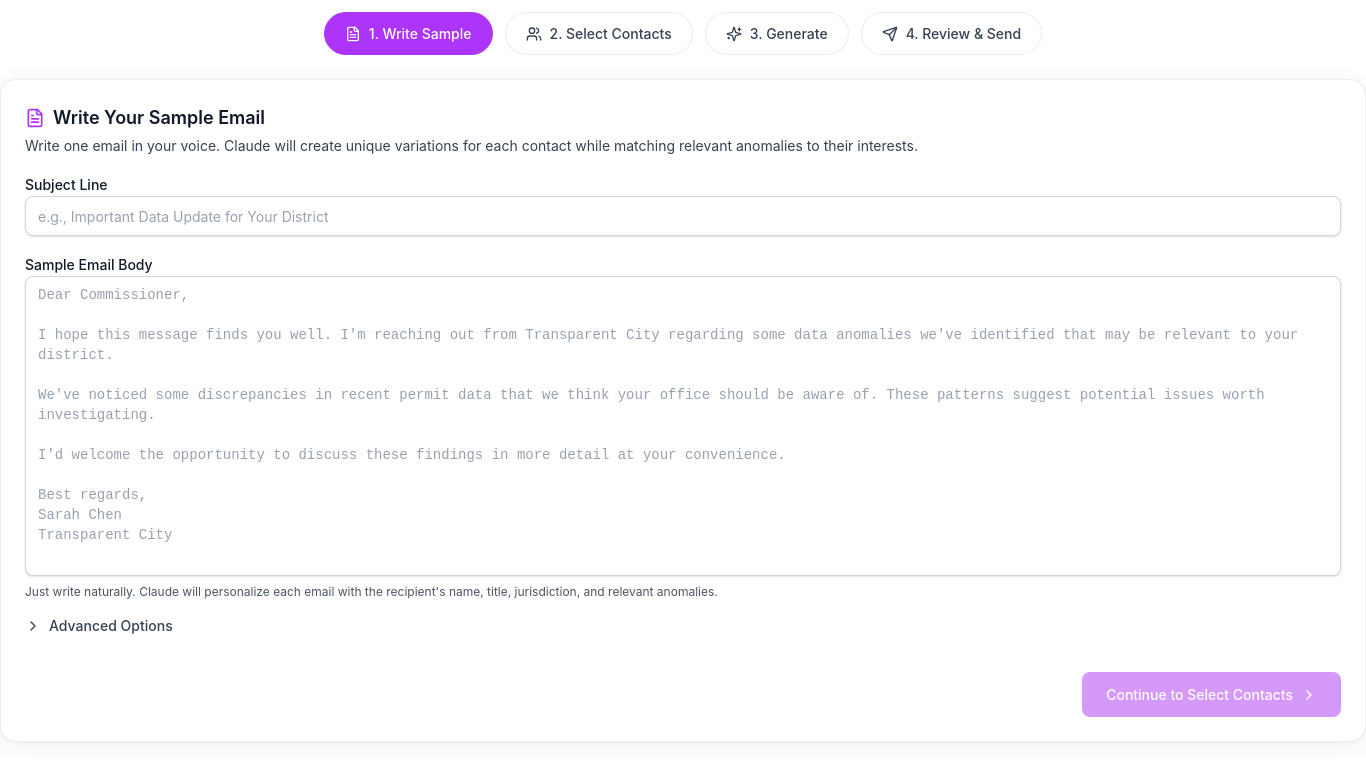
AIEmailComposer › shows contacts on the select step
The image size is (1366, 780).
Type "Hi there, here is some data we found." into the text box with placeholder "Dear Commissioner" at (683, 426), box top-left (25, 276), bottom-right (1341, 576)
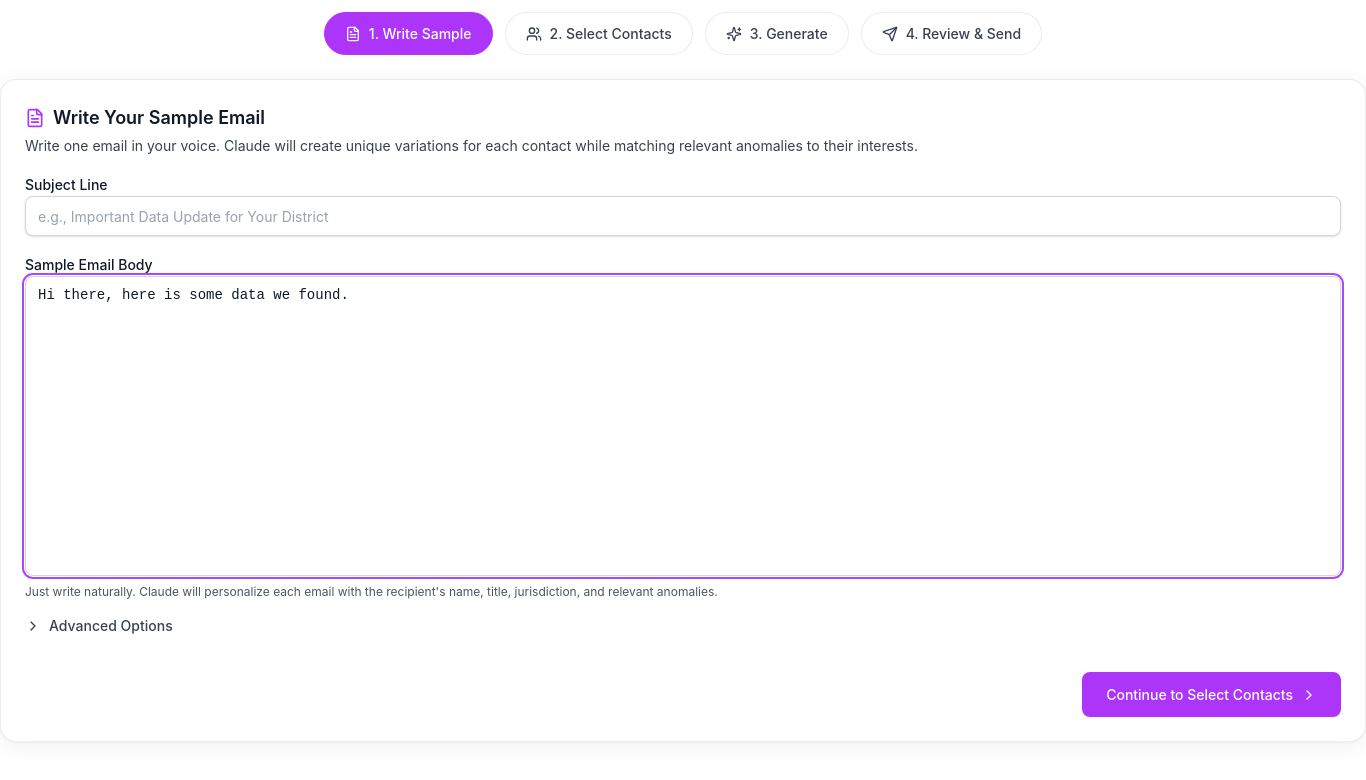
Type "Data update for your district" into the field with placeholder "e.g., Important Data Update for Your District" at (683, 216), box top-left (25, 196), bottom-right (1341, 236)
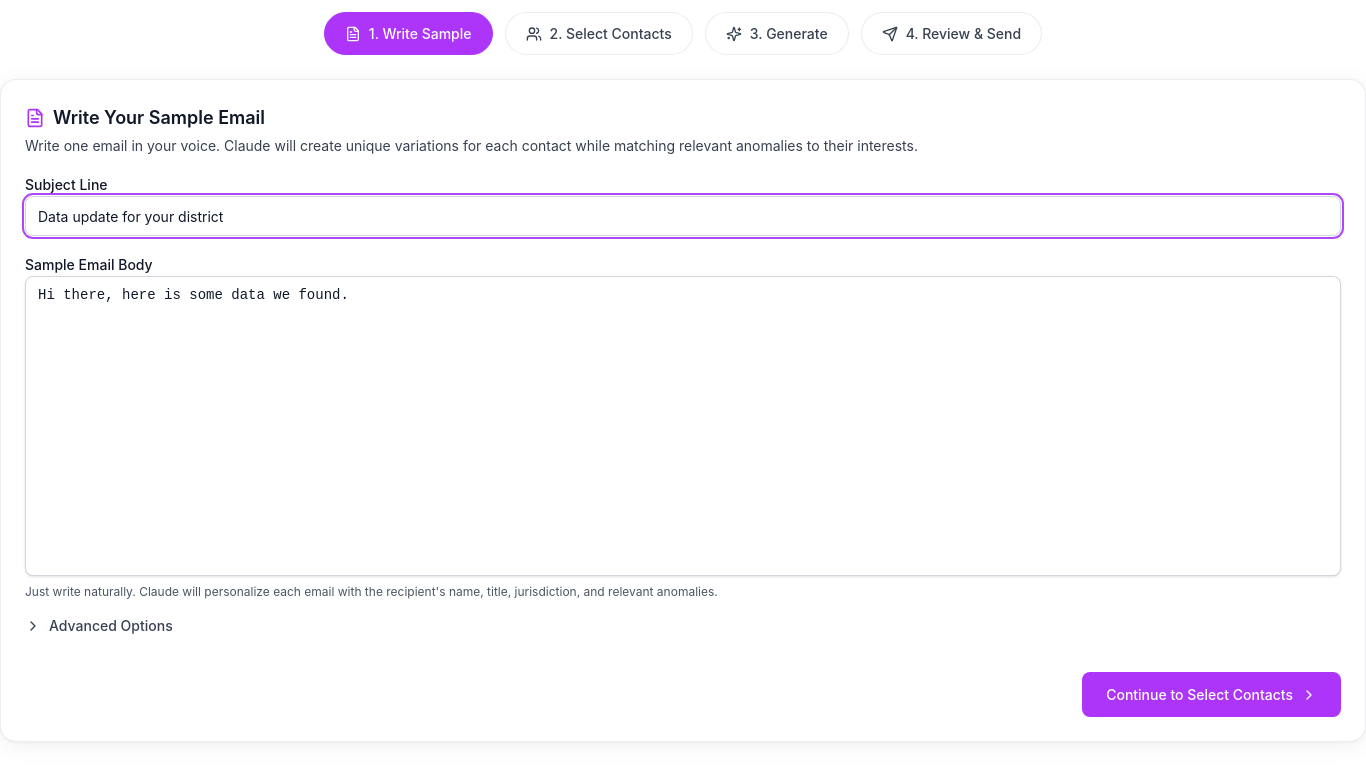
Click the button "Continue to Select Contacts" at (1212, 694), box top-left (1082, 672), bottom-right (1341, 717)
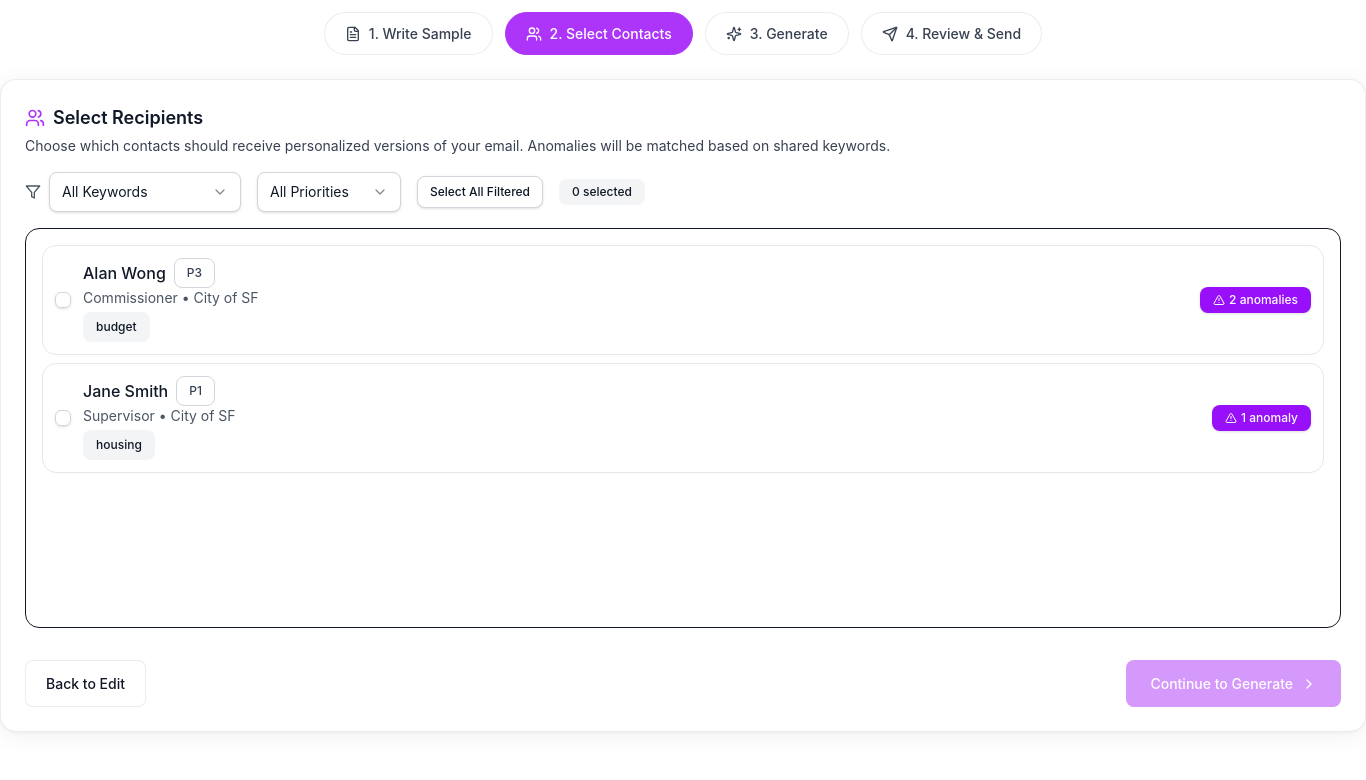
Expected: the heading "Select Recipients" is shown, top-left (25, 107), bottom-right (203, 128)
Expected: the text "Alan Wong" is shown, top-left (83, 261), bottom-right (166, 285)
Expected: the text "Jane Smith" is shown, top-left (83, 379), bottom-right (168, 403)
